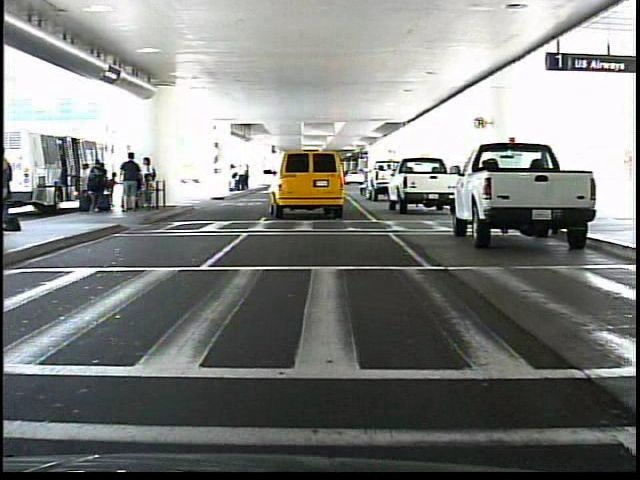person: (3, 144, 18, 230)
